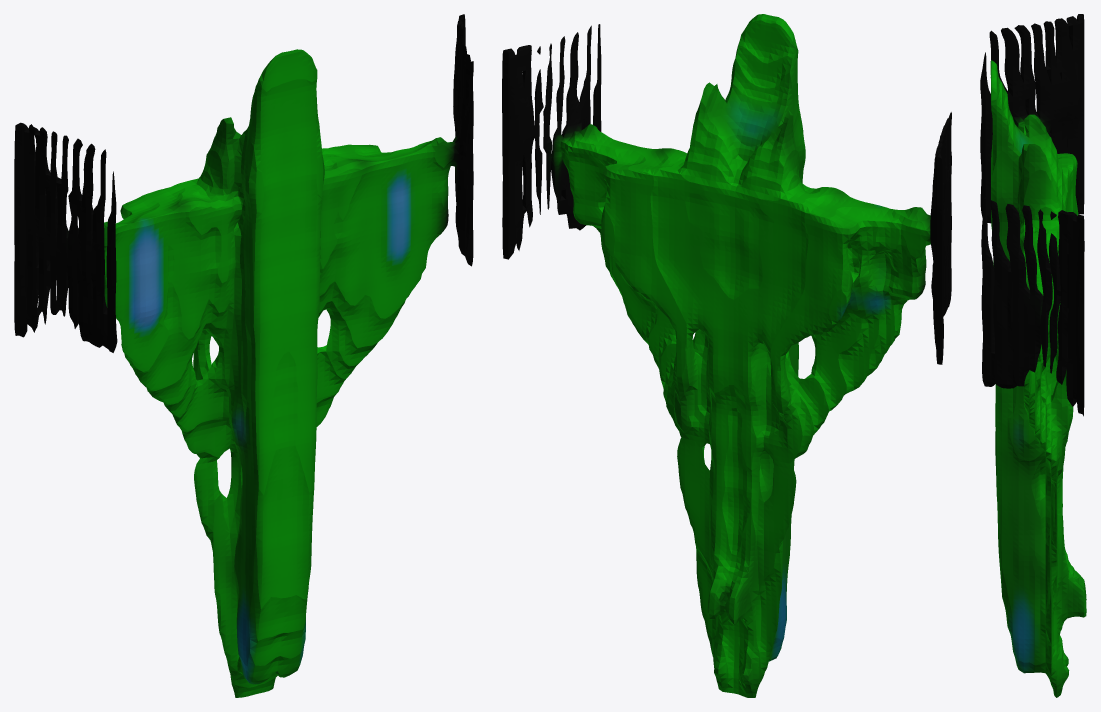
File: Futuristic green plane_1750032205.obj
The picture shows the model from 3 angles, left to right: view 1: azimuth 30°, elevation 25°; view 2: azimuth 150°, elevation 25°; view 3: azimuth 270°, elevation 25°; orthographic projection. The views are drawn at different scales.
Bounding box in the file's own units: 1.39 × 1.97 × 0.3026.
